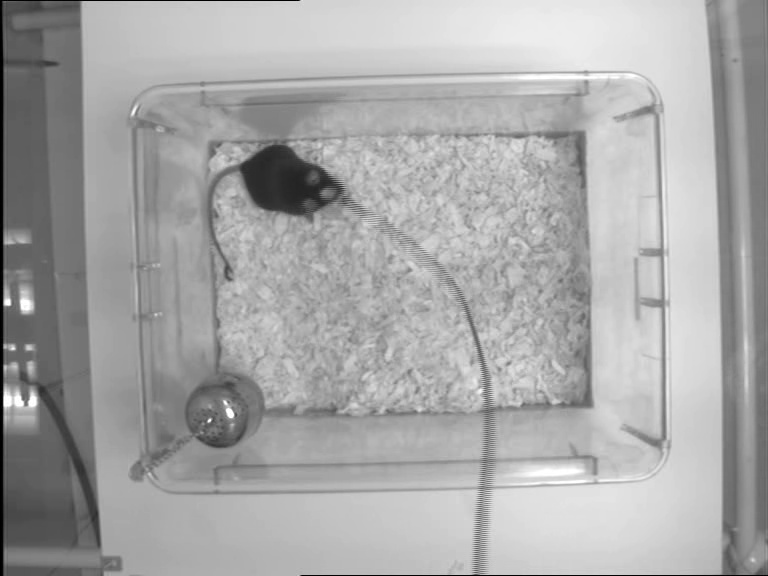mice: (206, 144, 343, 273)
